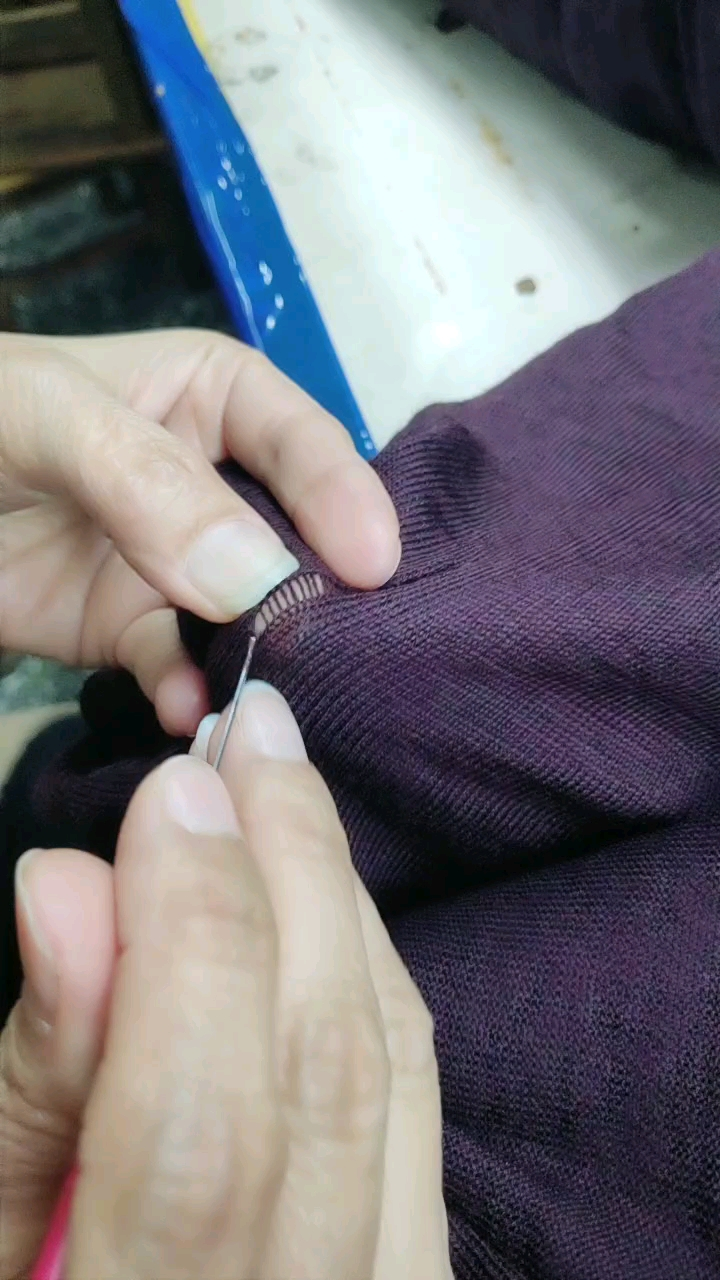missing_stitch_2: (266, 568, 335, 606), (251, 604, 279, 637)
